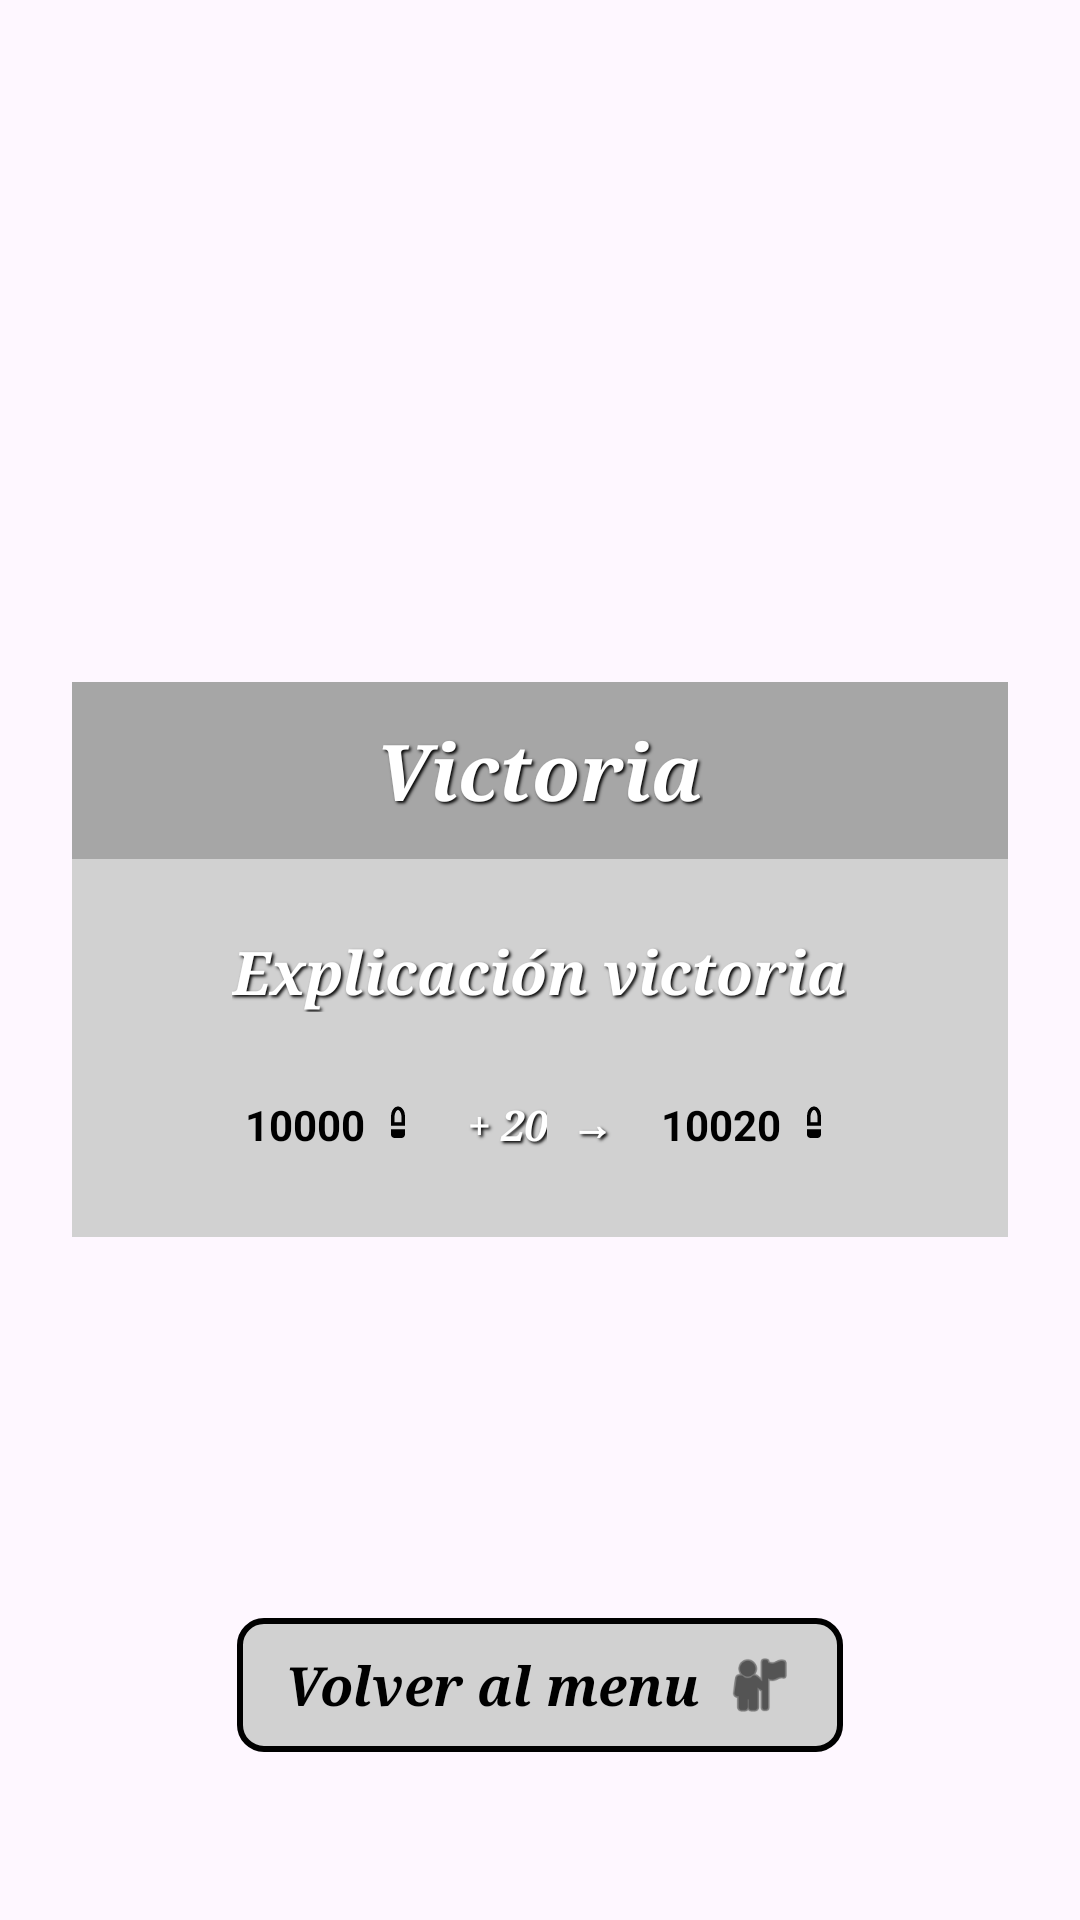

Where icons sit on this 1080x1920 app screen, as (x1, y1, x2, y2):
bullet: (391, 1106, 405, 1138), (807, 1106, 821, 1138)
myplaces: (733, 1658, 787, 1712)
